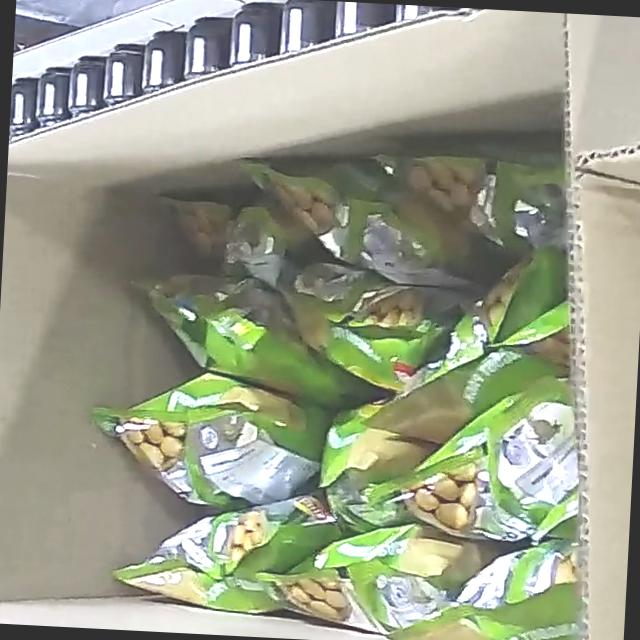yogurt: (78, 131, 603, 640)
